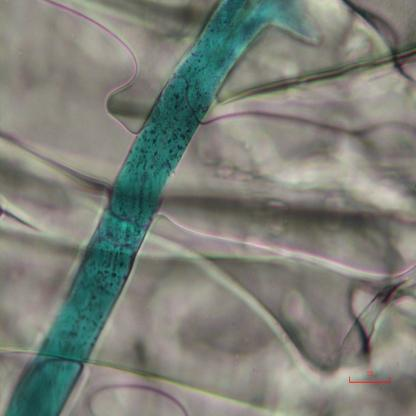Background material: (92, 0, 416, 416), (0, 3, 178, 246)
Microfibre: (4, 1, 322, 415)
